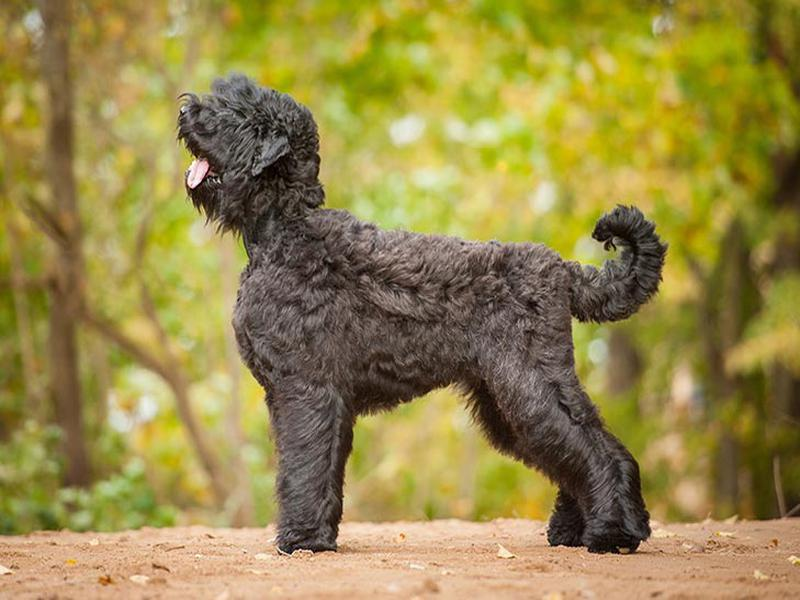dog_stand: (174, 72, 670, 557)
